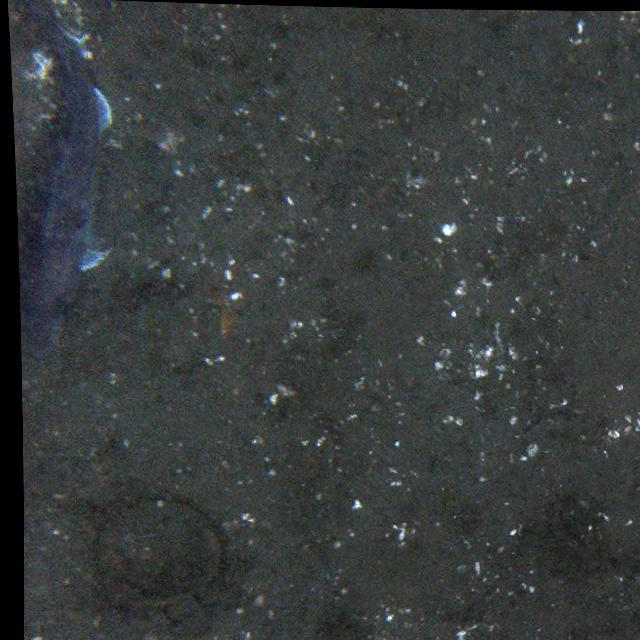roundfish: (16, 1, 122, 365)
